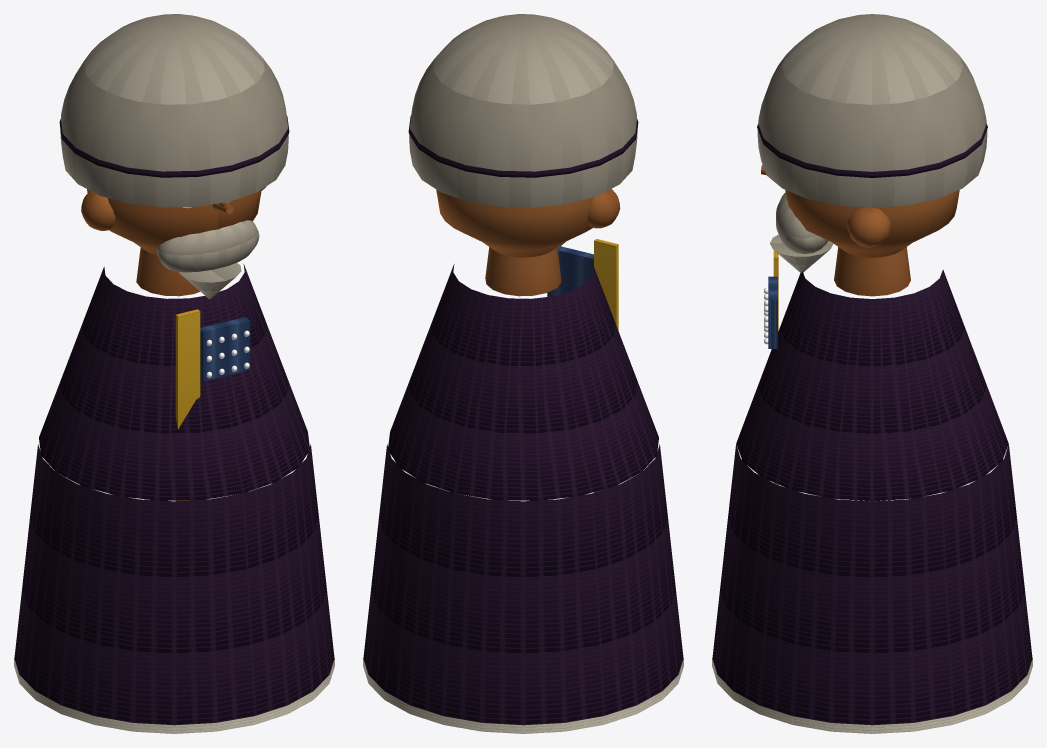
File: eleazar.glb
3 renders of one model, left to right at view 1: azimuth 30°, elevation 25°; view 2: azimuth 150°, elevation 25°; view 3: azimuth 270°, elevation 25°, orthographic.
Parts seen in each view (by area): view 1: Character_eleazar_ben_simon, head; view 2: Character_eleazar_ben_simon, head; view 3: Character_eleazar_ben_simon, head.
Part boxes in pixels (box(x1,y1,x2,y2)): Character_eleazar_ben_simon: box(14, 14, 334, 733); head: box(87, 189, 261, 255); Character_eleazar_ben_simon: box(363, 14, 683, 733); head: box(436, 189, 593, 257); Character_eleazar_ben_simon: box(712, 14, 1032, 733); head: box(785, 190, 959, 257).
Bounding box in the file's own units: 0.8154 × 1.8 × 0.8154.
Materials: 12 (7 with a texture image).
